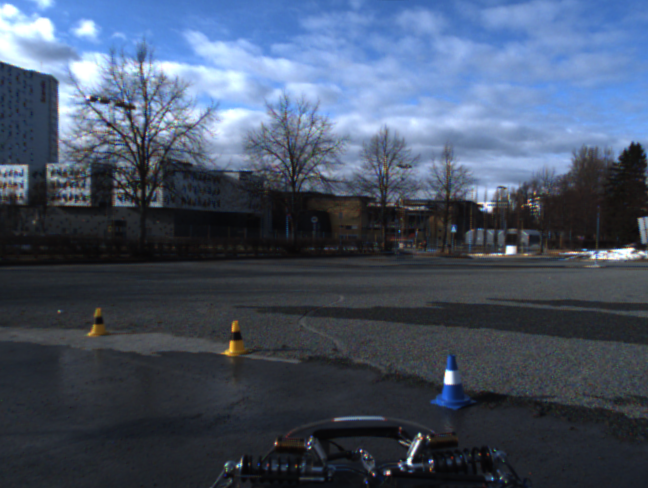cone-small-blue: (428, 354, 477, 410)
cone-small-yellow: (220, 320, 250, 357), (85, 308, 110, 337)
